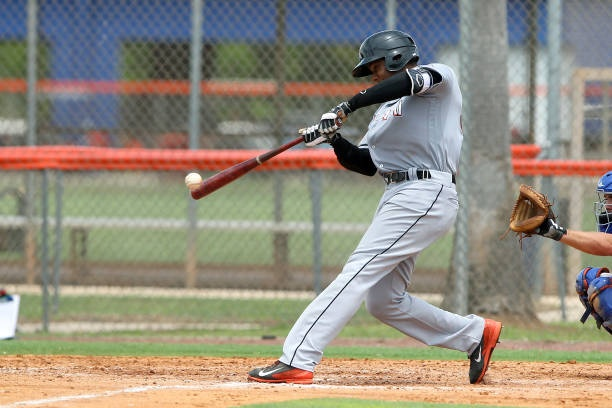bita: (188, 106, 348, 198)
